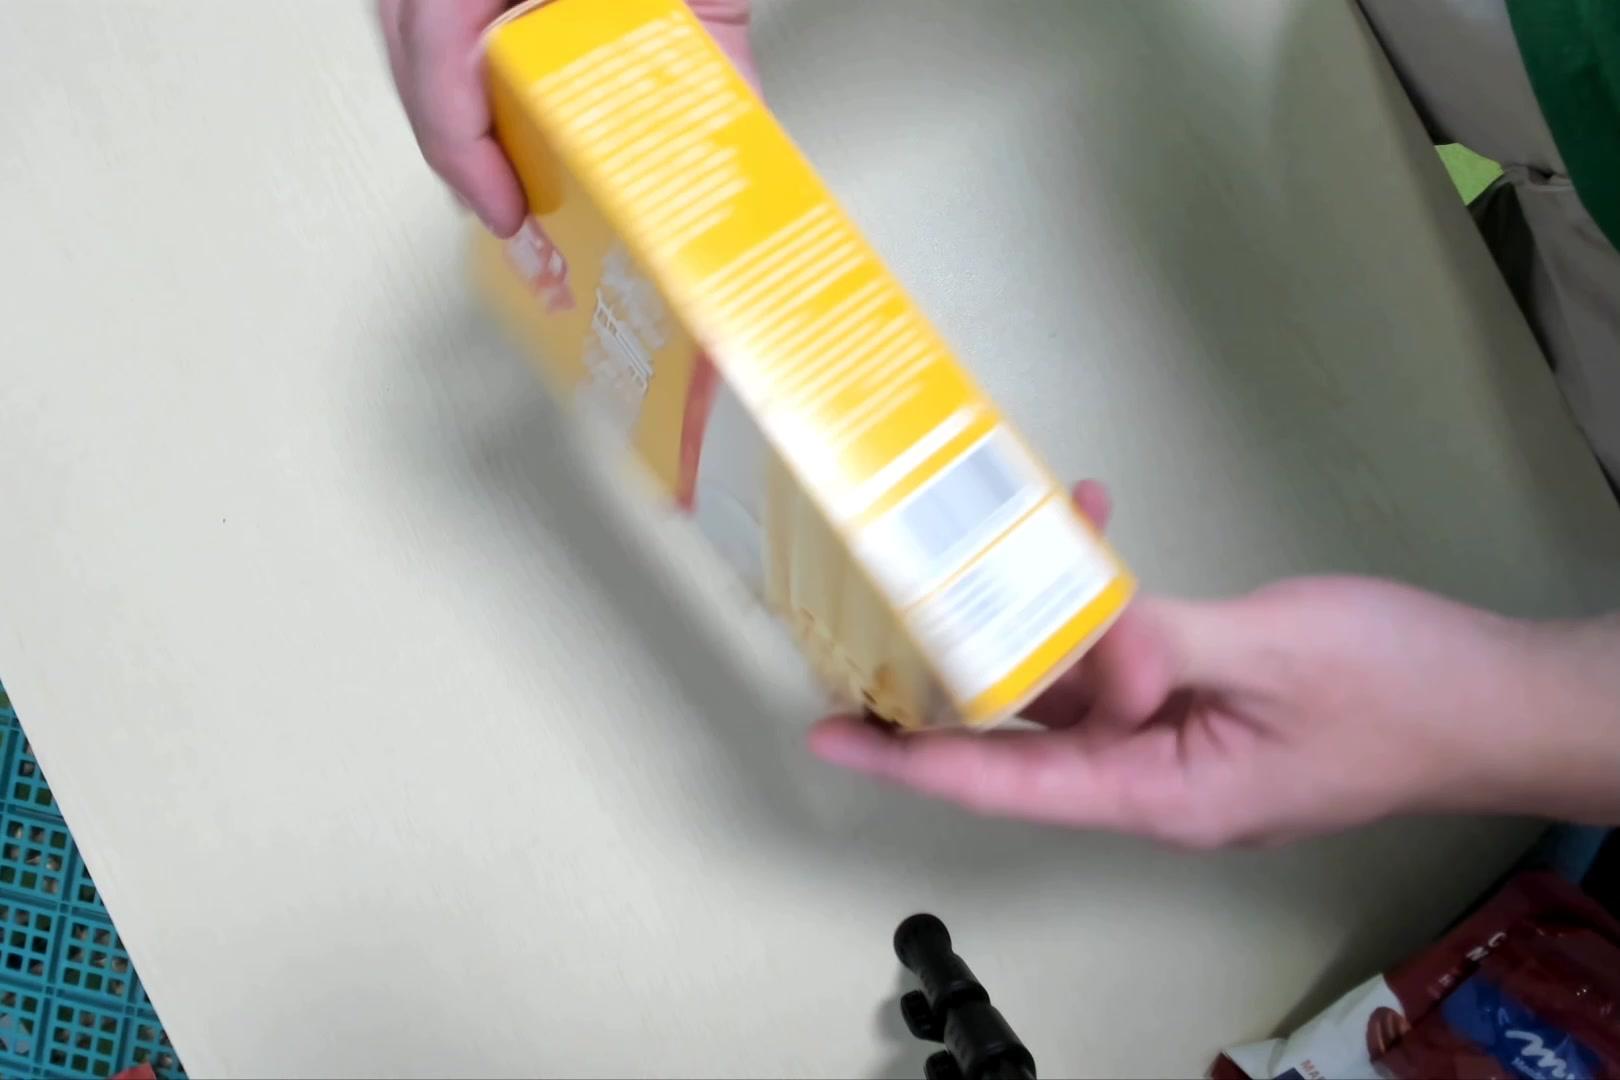BiscuitsCrackersCookies_0-99g_NonHalal_NonHealthy: (457, 2, 1137, 724)
